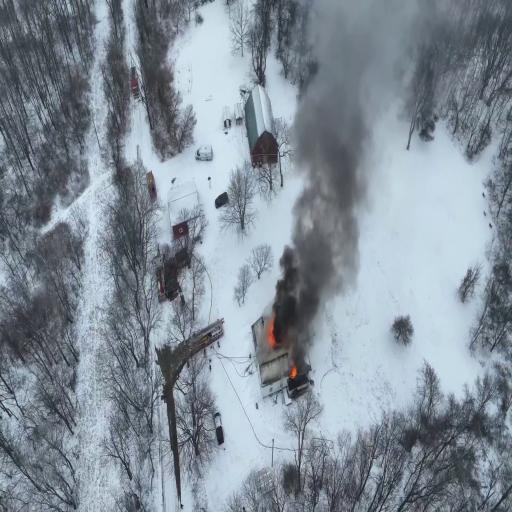fire: (266, 312, 277, 347)
smoke: (300, 109, 357, 280), (318, 10, 382, 140), (278, 243, 306, 339)
